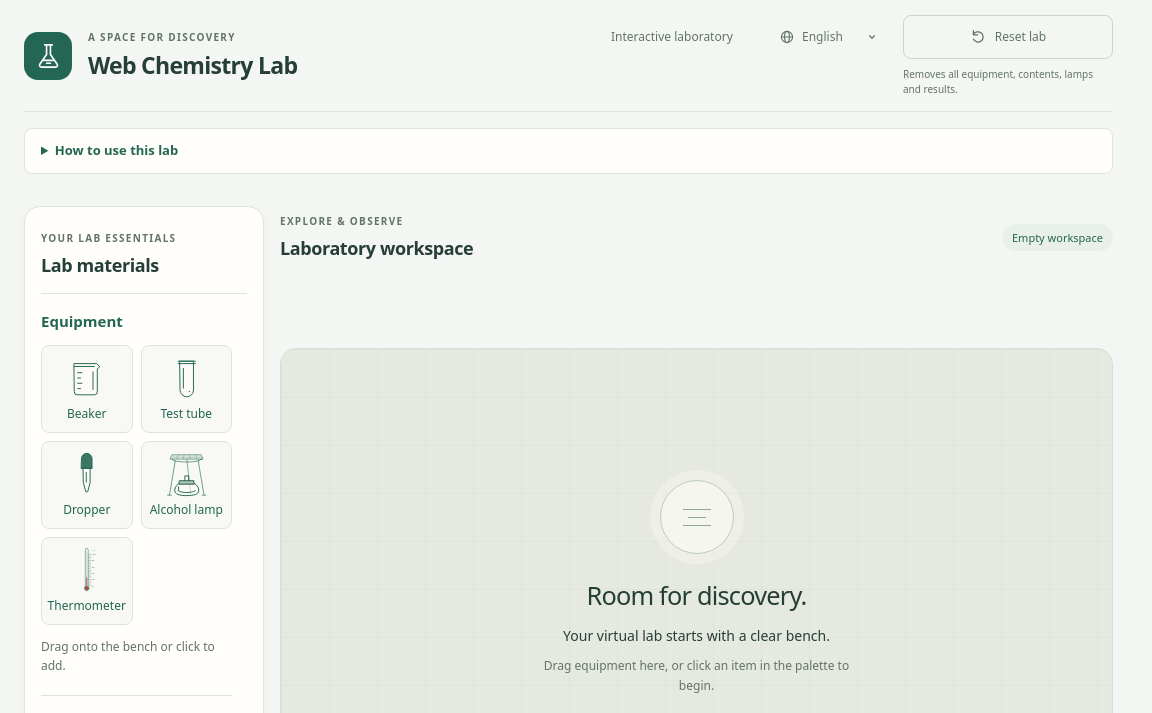
Test case: Pass 2 native mounting foundations, isolated from production orchestration › exposes native mounting and lamp occupancy in the integrated production lab
Click the button with aria-label "Add Beaker": (87, 388) left=41, top=344, right=132, bottom=432
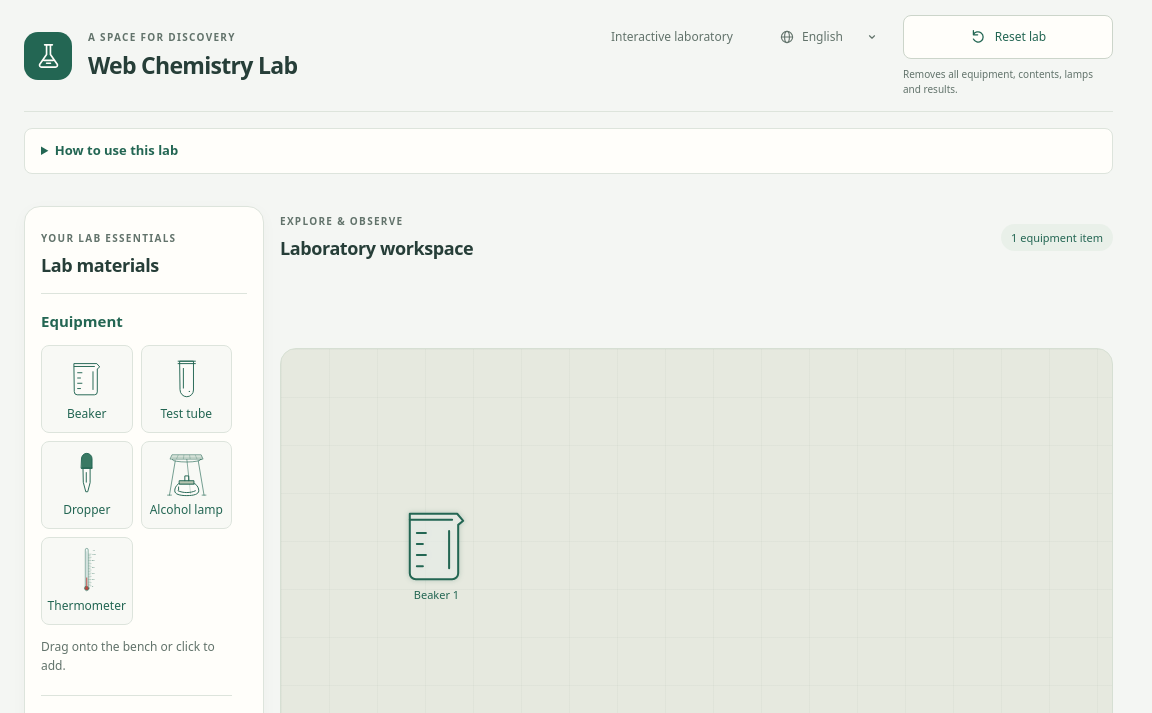
Click the button with aria-label "Add Alcohol lamp": (186, 484) left=140, top=440, right=232, bottom=528
(page scrolled)
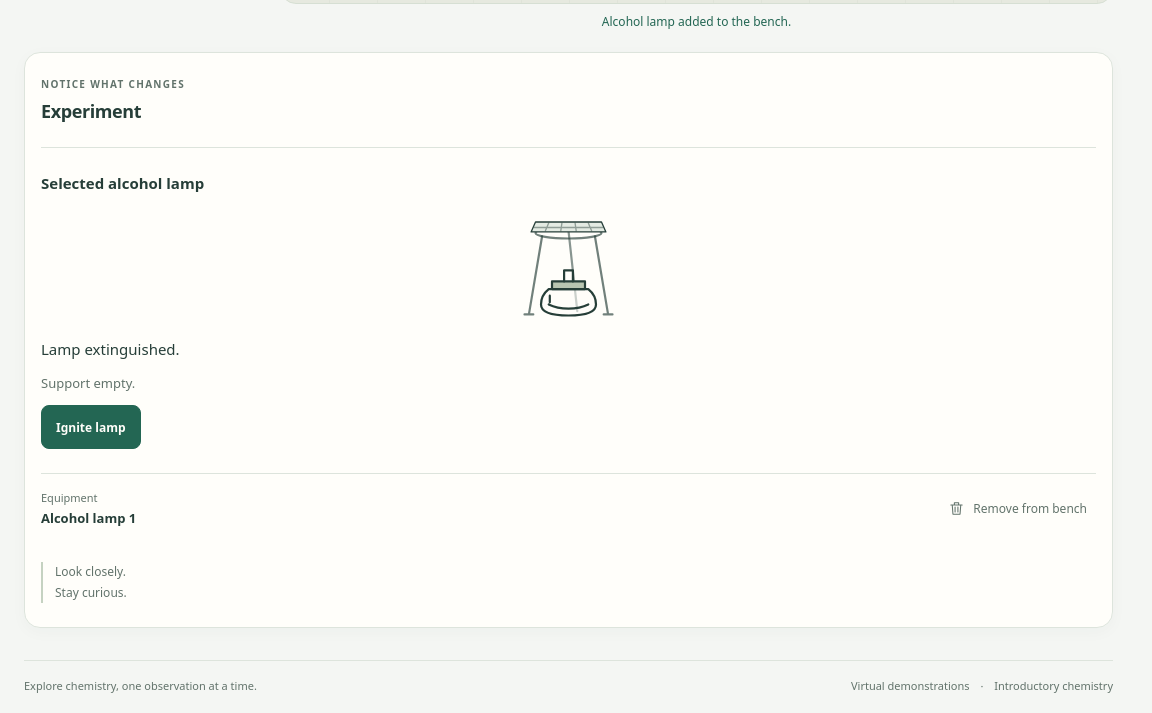
Check: the message named "Lamp support occupancy" reads "Support empty.", box left=41, top=374, right=135, bottom=392
Check: the button "Ignite lamp" is enabled, box left=41, top=405, right=140, bottom=449
